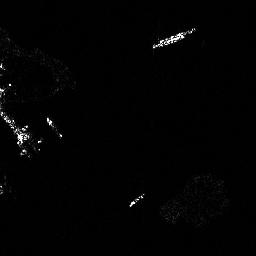ship: (151, 28, 198, 50)
